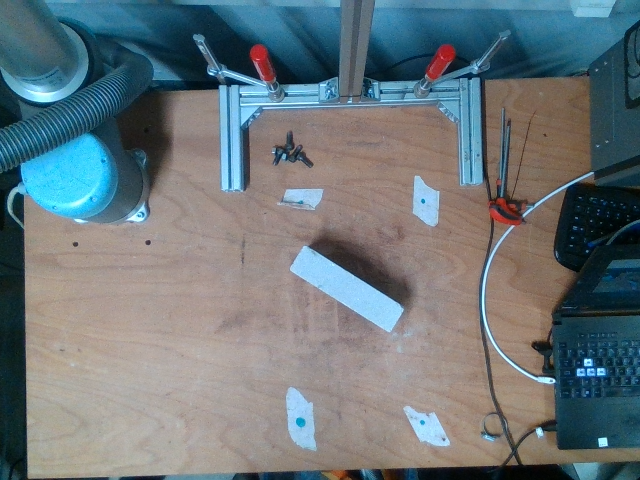brick-side: (288, 245, 403, 334)
